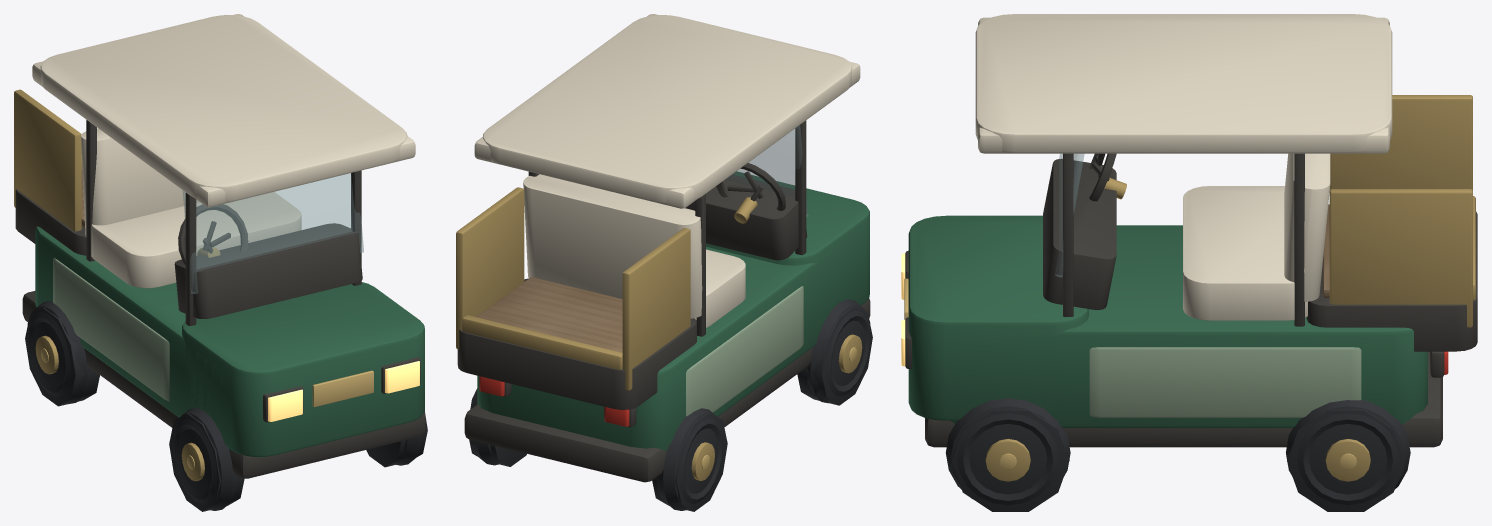
File: fleet_golf_cart.glb
3 renders of one model, left to right at view 1: azimuth 30°, elevation 25°; view 2: azimuth 150°, elevation 25°; view 3: azimuth 270°, elevation 25°, orthographic. The views are drawn at different scales.
Visible parts, largest first — view 1: LOD0_StaticBody, LOD1_StaticBody, Wheel_FL, Wheel_RL, SteeringWheel, LIGHT_Head_L, LIGHT_Head_R, Wheel_FR; view 2: LOD0_StaticBody, LOD1_StaticBody, Wheel_RL, Wheel_FL, SteeringWheel; view 3: LOD0_StaticBody, LOD1_StaticBody, Wheel_FR, Wheel_RR, SteeringWheel.
Boxes of the visible parts, x1,y1,x2,y2 form: LOD0_StaticBody: (14, 15, 425, 478); LOD1_StaticBody: (25, 14, 427, 511); Wheel_FL: (173, 407, 239, 510); Wheel_RL: (27, 301, 90, 404); SteeringWheel: (178, 204, 248, 264); LIGHT_Head_L: (268, 389, 302, 421); LIGHT_Head_R: (385, 361, 419, 393); Wheel_FR: (395, 412, 426, 465); LOD0_StaticBody: (456, 15, 870, 482); LOD1_StaticBody: (469, 14, 872, 511); Wheel_RL: (656, 408, 723, 510); Wheel_FL: (807, 299, 870, 403); SteeringWheel: (716, 163, 785, 223); LOD0_StaticBody: (904, 14, 1477, 447); LOD1_StaticBody: (950, 17, 1427, 511); Wheel_FR: (945, 398, 1070, 505); Wheel_RR: (1286, 400, 1410, 505); SteeringWheel: (1089, 153, 1126, 201).
Size of what is drawn, in the model's own units: 1.27 by 1.83 by 2.49.
11 materials, 1 textured.
